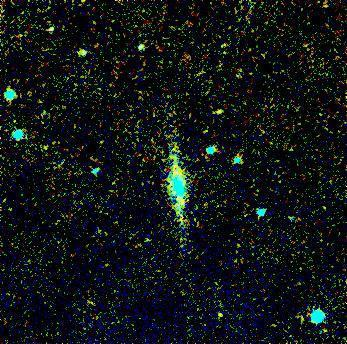star: (202, 97, 232, 127)
